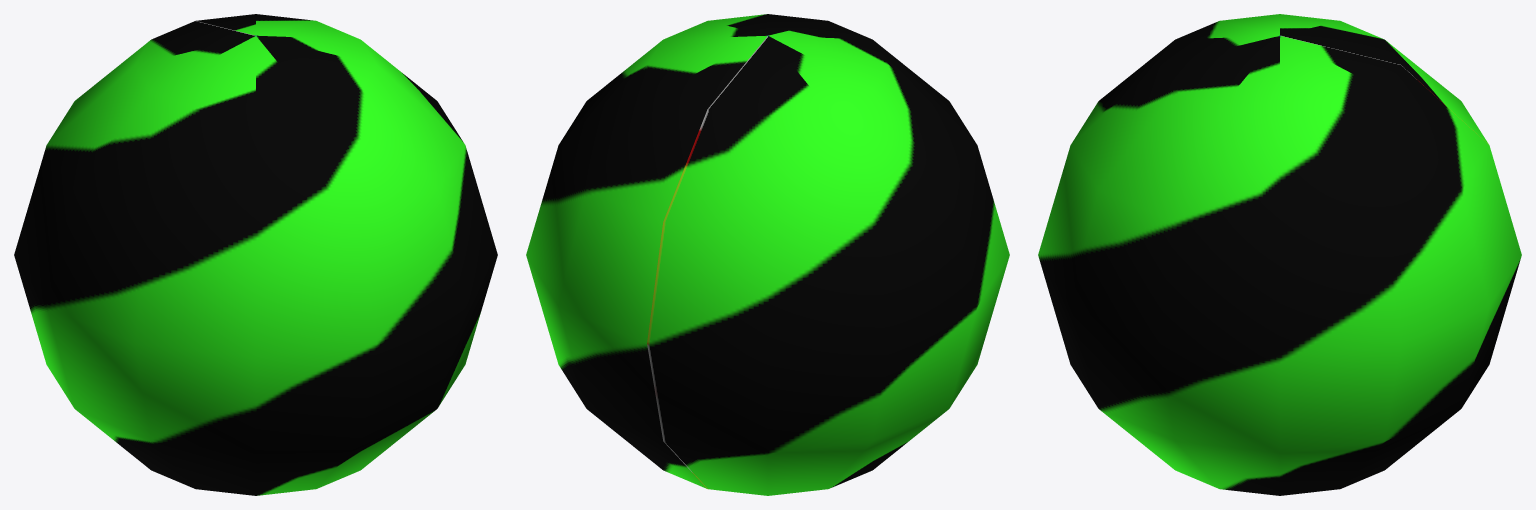
File: Marble.FBX
3 views of the same model, side by side, from view 1: azimuth 30°, elevation 25°; view 2: azimuth 150°, elevation 25°; view 3: azimuth 270°, elevation 25° (orthographic).
Visible parts, largest first — view 1: Marble; view 2: Marble; view 3: Marble.
Part boxes in pixels (x1,y1,x2,y2): Marble: [14, 14, 497, 495]; Marble: [526, 14, 1009, 495]; Marble: [1038, 14, 1521, 495].
Bounding box in the file's own units: 100 × 100 × 100.
